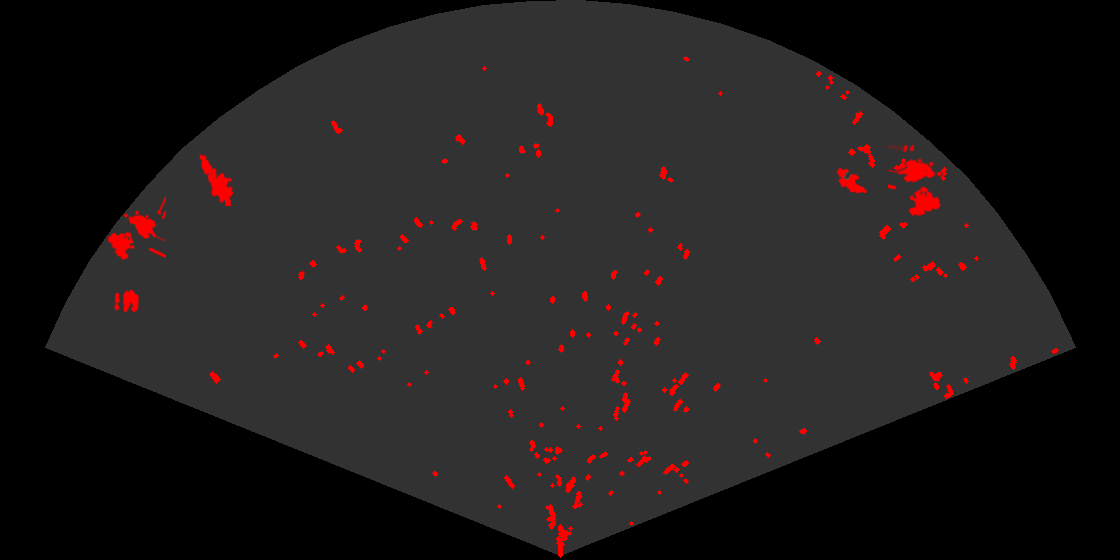AUV: (835, 166, 869, 195)
ball: (113, 288, 140, 315)
cage: (888, 145, 944, 218), (106, 194, 166, 262)
frogman: (198, 152, 235, 206)
